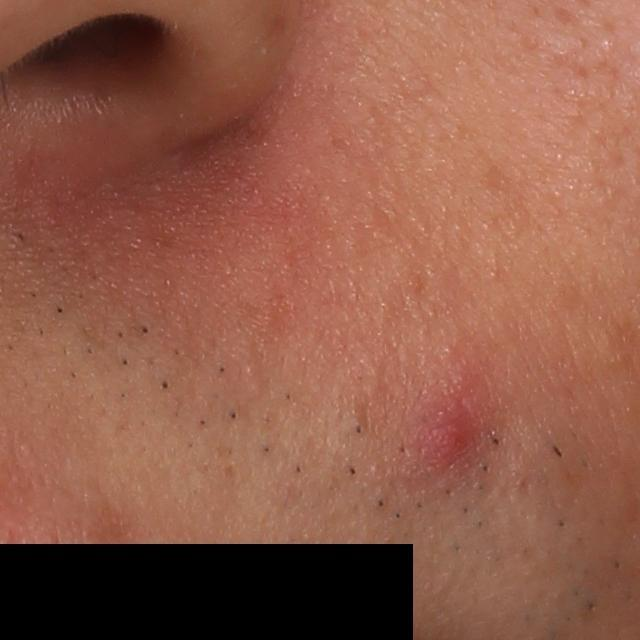papule: (407, 385, 481, 478)
